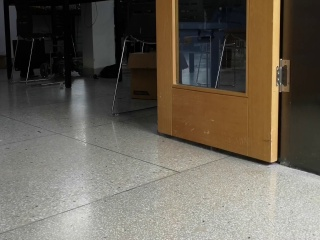room: (137, 3, 320, 181)
